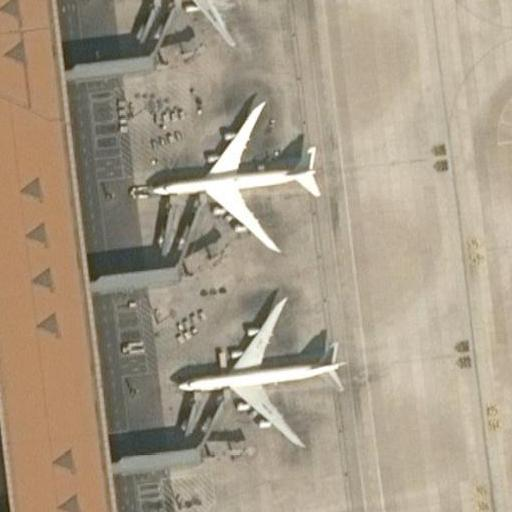Aircraft: (153, 96, 322, 256), (178, 300, 346, 447), (145, 0, 283, 43)
